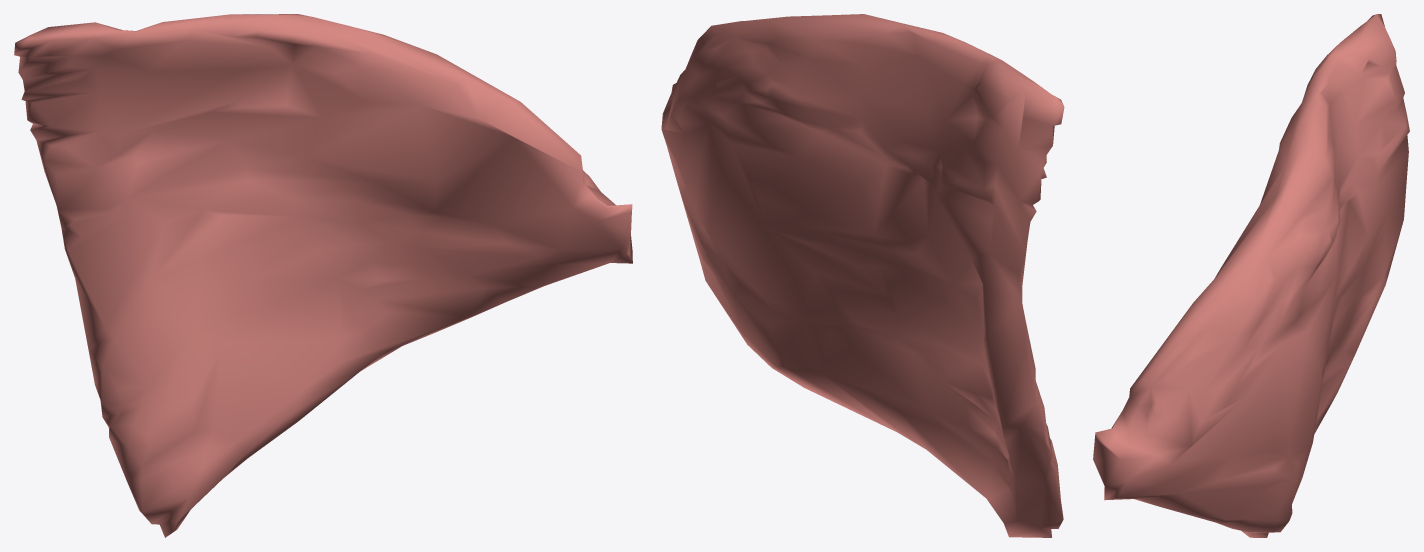
3 renders of one model, left to right at view 1: azimuth 30°, elevation 25°; view 2: azimuth 150°, elevation 25°; view 3: azimuth 270°, elevation 25°, orthographic. The views are drawn at different scales.
Parts seen in each view (by area): view 1: ZA_8ab5372f0478a843; view 2: ZA_8ab5372f0478a843; view 3: ZA_8ab5372f0478a843.
Part boxes in pixels (x1,y1,x2,y2): ZA_8ab5372f0478a843: (14, 14, 632, 537); ZA_8ab5372f0478a843: (661, 14, 1064, 537); ZA_8ab5372f0478a843: (1093, 14, 1409, 537).
Bounding box in the file's own units: 0.0427 × 0.0394 × 0.0233.
